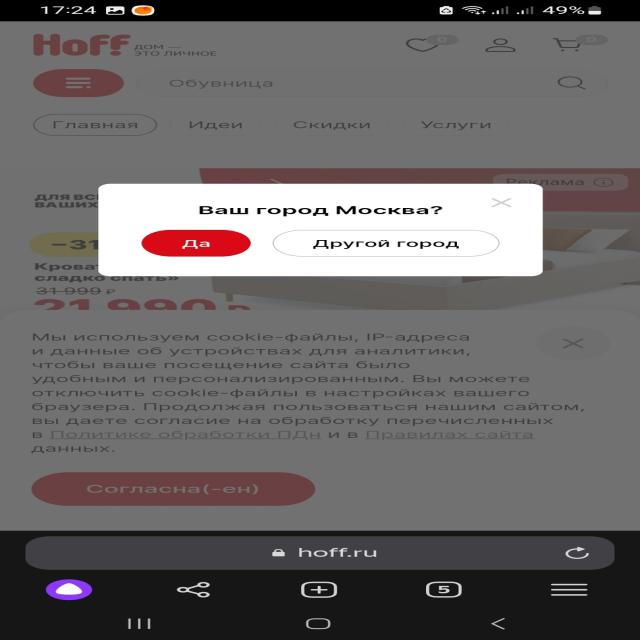button: (31, 471, 318, 505), (270, 229, 500, 256), (143, 229, 252, 257), (538, 330, 612, 357)
site: (0, 312, 640, 528), (99, 185, 540, 276)
